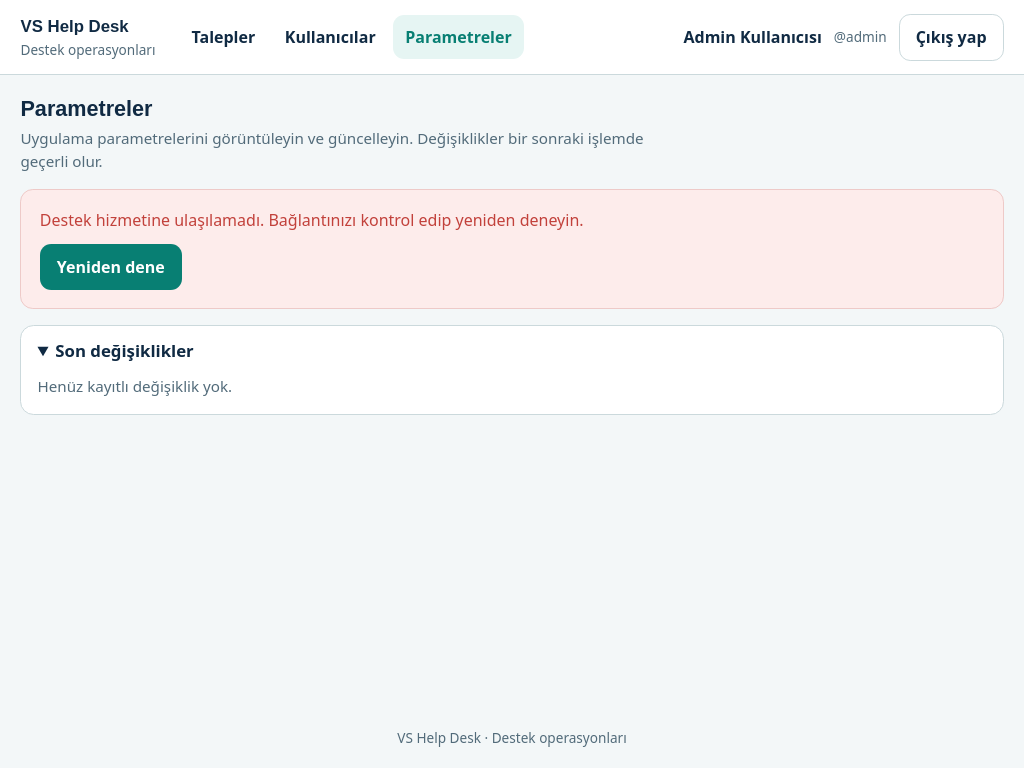
Test: ParametersPage › distinguishes network and server load errors
Expected: the message shows "Destek hizmetine ulaşılamadı. Bağlantınızı kontrol edip yeniden deneyin.", [40,208,584,230]
Click the button "Yeniden dene".
click(111, 267)  # box [40,244,182,290]
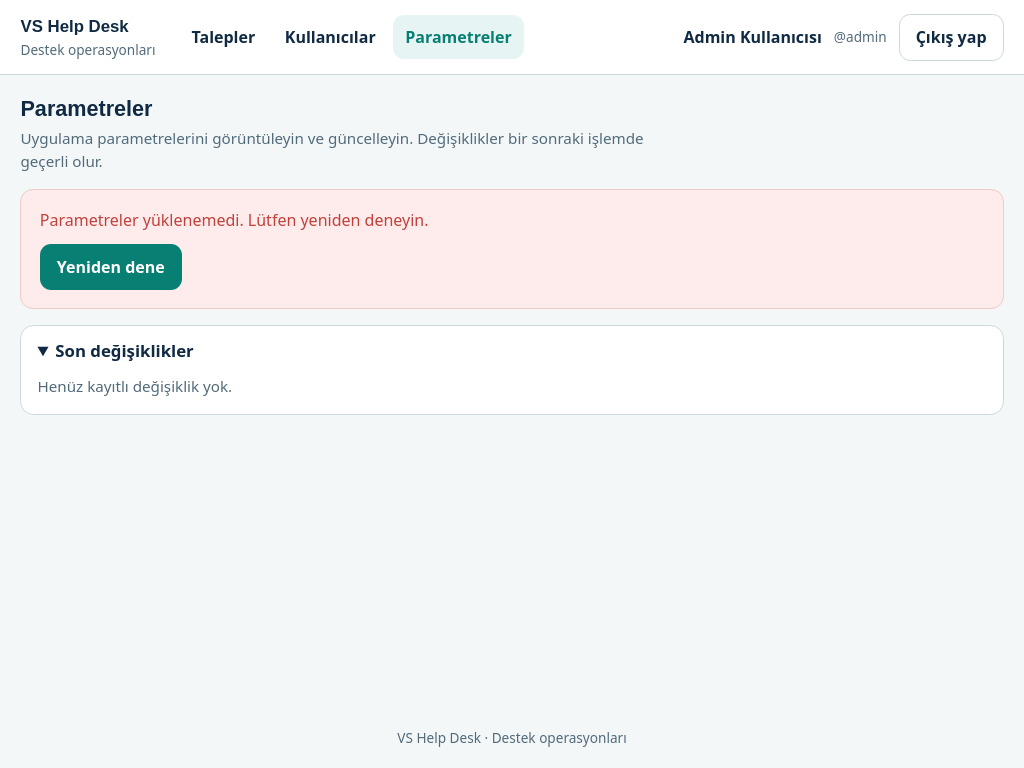
Result: the message shows "Parametreler yüklenemedi. Lütfen yeniden deneyin." at [40,208,428,230]
